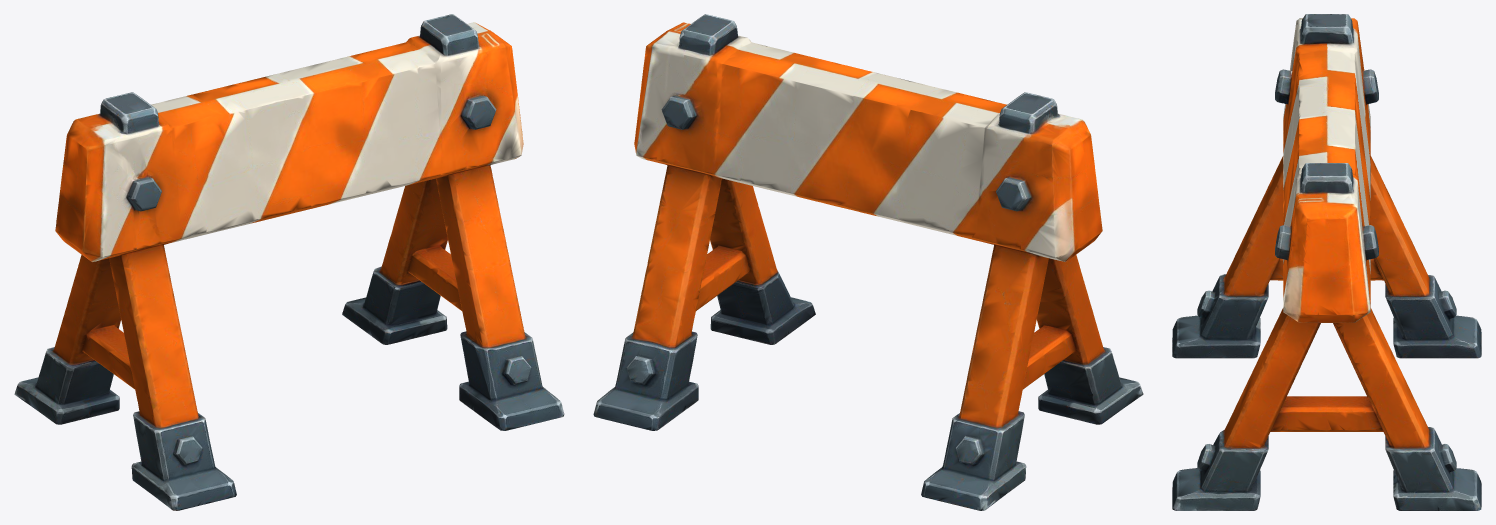
File: construction-barrier.glb
3 renders of one model, left to right at view 1: azimuth 30°, elevation 25°; view 2: azimuth 150°, elevation 25°; view 3: azimuth 270°, elevation 25°, orthographic. The views are drawn at different scales.
Bounding box in the file's own units: 1.89 × 1.4 × 1.2.
1 material, 1 textured.
